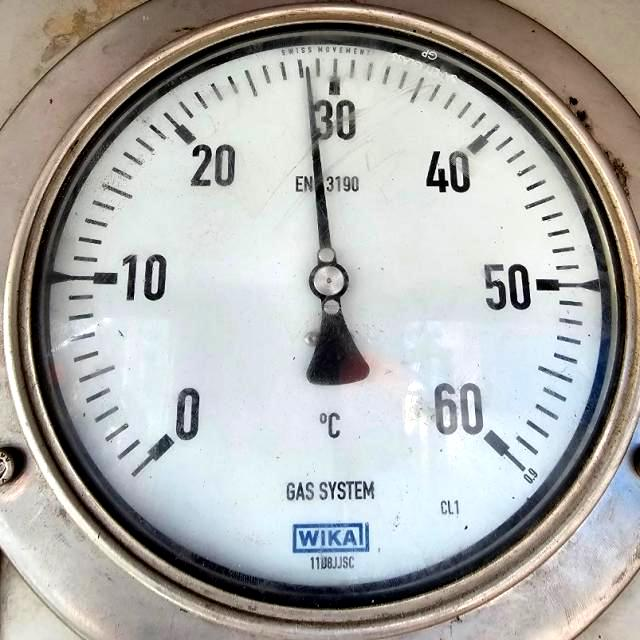Needle_Tip: (273, 54, 344, 121)
Needle_base: (298, 254, 360, 317)
max_value: (415, 383, 507, 442)
min_value: (162, 386, 210, 444)
